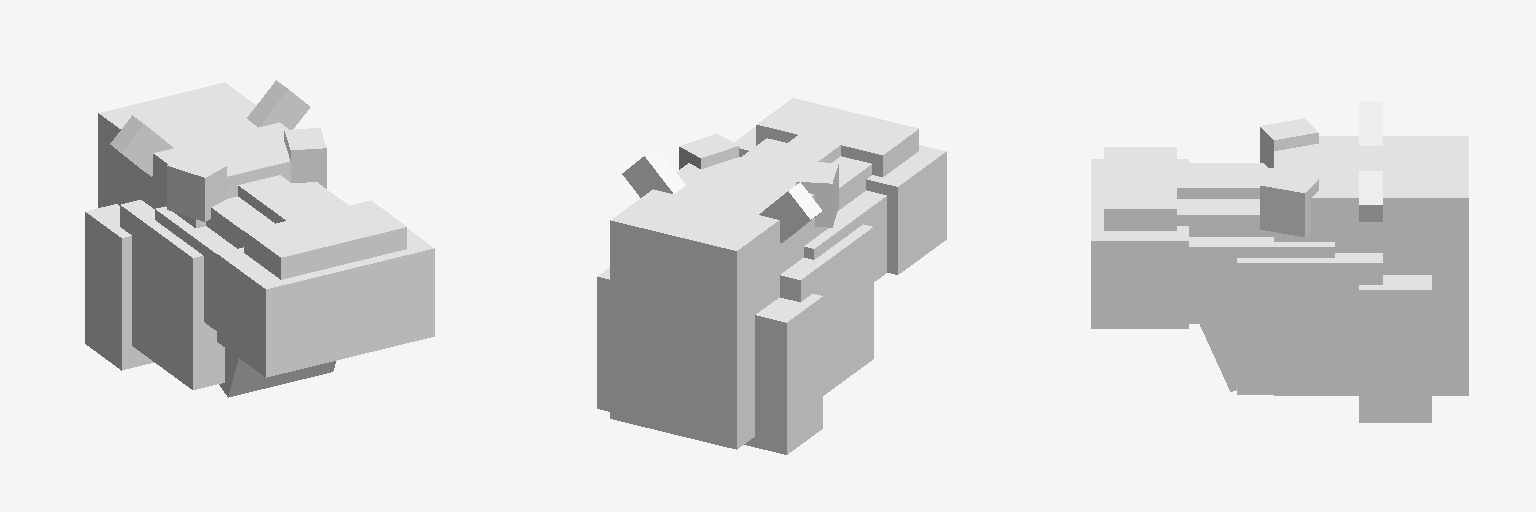
File: amphibius_head.obj
3 renders of one model, left to right at view 1: azimuth 30°, elevation 25°; view 2: azimuth 150°, elevation 25°; view 3: azimuth 270°, elevation 25°, orthographic.
Parts seen in each view (by area): view 1: Element #29, Element #32, Element #39, Element #22, Element #26, Element #27, Element #20, Element #21, Element #19, Element #23, Element #24, Element #28 (+1 smaller); view 2: Element #32, Element #26, Element #39, Element #29, Element #22, Element #21, Element #27, Element #28, Element #20, Element #31, Element #19, Element #23; view 3: Element #32, Element #39, Element #29, Element #26, Element #22, Element #21, Element #20, Element #23, Element #19, Element #27, Element #24, Element #28 (+1 smaller).
Part boxes in pixels (x1,y1,x2,y2): Element #29: (217, 229, 434, 377); Element #32: (98, 82, 290, 227); Element #39: (120, 200, 224, 389); Element #22: (244, 200, 406, 279); Element #26: (85, 204, 154, 370); Element #27: (167, 153, 226, 221); Element #20: (206, 182, 348, 248); Element #21: (155, 206, 236, 330); Element #19: (238, 175, 328, 223); Element #23: (284, 128, 326, 188); Element #24: (219, 348, 335, 397); Element #28: (247, 80, 309, 129); Element #32: (610, 157, 827, 449); Element #26: (597, 267, 822, 454); Element #39: (780, 224, 873, 395); Element #29: (734, 127, 946, 274); Element #22: (756, 98, 918, 176); Element #21: (804, 190, 886, 281); Element #27: (796, 161, 838, 227); Element #28: (622, 147, 685, 197); Element #20: (742, 138, 871, 210); Element #31: (759, 182, 821, 242); Element #19: (762, 135, 840, 170); Element #23: (679, 134, 738, 169); Element #32: (1274, 136, 1468, 395); Element #39: (1237, 253, 1382, 394); Element #29: (1091, 159, 1188, 328); Element #26: (1359, 275, 1431, 422); Element #22: (1104, 147, 1176, 230); Element #21: (1189, 237, 1334, 323); Element #20: (1177, 163, 1273, 236); Element #23: (1260, 171, 1318, 236); Element #19: (1177, 168, 1273, 198); Element #27: (1260, 118, 1318, 167); Element #24: (1200, 324, 1236, 391); Element #28: (1359, 171, 1382, 221).
Bounding box in the file's own units: 9 × 10.91 × 15.5.